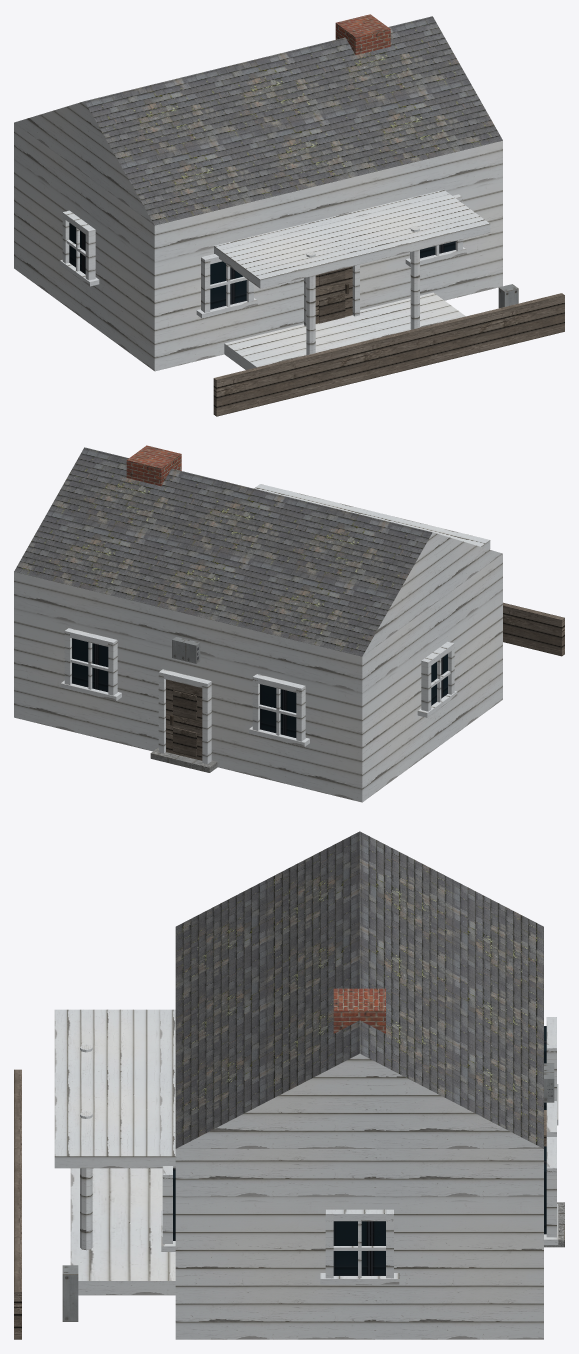
The model's file is tenant-cottage_lod0.gltf.
The picture shows the model from 3 angles, top to bottom: view 1: azimuth 30°, elevation 25°; view 2: azimuth 150°, elevation 25°; view 3: azimuth 270°, elevation 25°; orthographic projection. The views are drawn at different scales.
Parts seen in each view (by area): view 1: tenant-cottage_roof, tenant-cottage_walls, tenant-cottage_porch, tenant-cottage__fence, tenant-cottage_gable_ends, tenant-cottage_fen_20-white-clapboard_0, tenant-cottage_fen_07-glass-curtain-blue_4_t, tenant-cottage__chimney, tenant-cottage_fen_18-timber-siding_2_t, tenant-cottage_fen_18-timber-siding_1; view 2: tenant-cottage_walls, tenant-cottage_roof, tenant-cottage_fen_20-white-clapboard_0, tenant-cottage_gable_ends, tenant-cottage_fen_07-glass-curtain-blue_4_t, tenant-cottage__fence, tenant-cottage_porch, tenant-cottage__chimney, tenant-cottage_fen_18-timber-siding_1, tenant-cottage_fen_18-timber-siding_2_t, tenant-cottage_fen_06-granite_5, tenant-cottage_fen_14-steel-panel_6; view 3: tenant-cottage_roof, tenant-cottage_walls, tenant-cottage_porch, tenant-cottage_gable_ends, tenant-cottage_fen_20-white-clapboard_0, tenant-cottage_fen_07-glass-curtain-blue_4_t, tenant-cottage__fence, tenant-cottage__chimney, tenant-cottage__mailbox.
Part boxes in pixels (box(x1,y1,x2,y2)): tenant-cottage_roof: box(84, 16, 502, 225); tenant-cottage_walls: box(14, 123, 502, 371); tenant-cottage_porch: box(214, 189, 490, 369); tenant-cottage__fence: box(213, 293, 564, 416); tenant-cottage_gable_ends: box(14, 101, 154, 225); tenant-cottage_fen_20-white-clapboard_0: box(59, 194, 466, 326); tenant-cottage_fen_07-glass-curtain-blue_4_t: box(69, 223, 455, 309); tenant-cottage__chimney: box(335, 14, 390, 54); tenant-cottage_fen_18-timber-siding_2_t: box(319, 268, 345, 323); tenant-cottage_fen_18-timber-siding_1: box(315, 266, 352, 323); tenant-cottage_walls: box(14, 554, 502, 802); tenant-cottage_roof: box(14, 447, 432, 656); tenant-cottage_fen_20-white-clapboard_0: box(60, 628, 457, 763); tenant-cottage_gable_ends: box(363, 532, 502, 655); tenant-cottage_fen_07-glass-curtain-blue_4_t: box(72, 638, 447, 737); tenant-cottage__fence: box(503, 602, 564, 656); tenant-cottage_porch: box(254, 484, 490, 549); tenant-cottage__chimney: box(126, 445, 181, 486); tenant-cottage_fen_18-timber-siding_1: box(166, 679, 202, 760); tenant-cottage_fen_18-timber-siding_2_t: box(173, 690, 196, 757); tenant-cottage_fen_06-granite_5: box(150, 747, 217, 772); tenant-cottage_fen_14-steel-panel_6: box(172, 637, 200, 663); tenant-cottage_roof: box(175, 831, 543, 1148); tenant-cottage_walls: box(175, 1149, 543, 1339); tenant-cottage_porch: box(54, 1009, 175, 1295); tenant-cottage_gable_ends: box(176, 1053, 543, 1148); tenant-cottage_fen_20-white-clapboard_0: box(161, 1017, 558, 1284); tenant-cottage_fen_07-glass-curtain-blue_4_t: box(173, 1026, 546, 1275); tenant-cottage__fence: box(14, 1069, 21, 1339); tenant-cottage__chimney: box(333, 988, 385, 1033); tenant-cottage__mailbox: box(62, 1265, 78, 1321).
Bounding box in the file's own units: 10.55 × 6.2 × 10.47.
